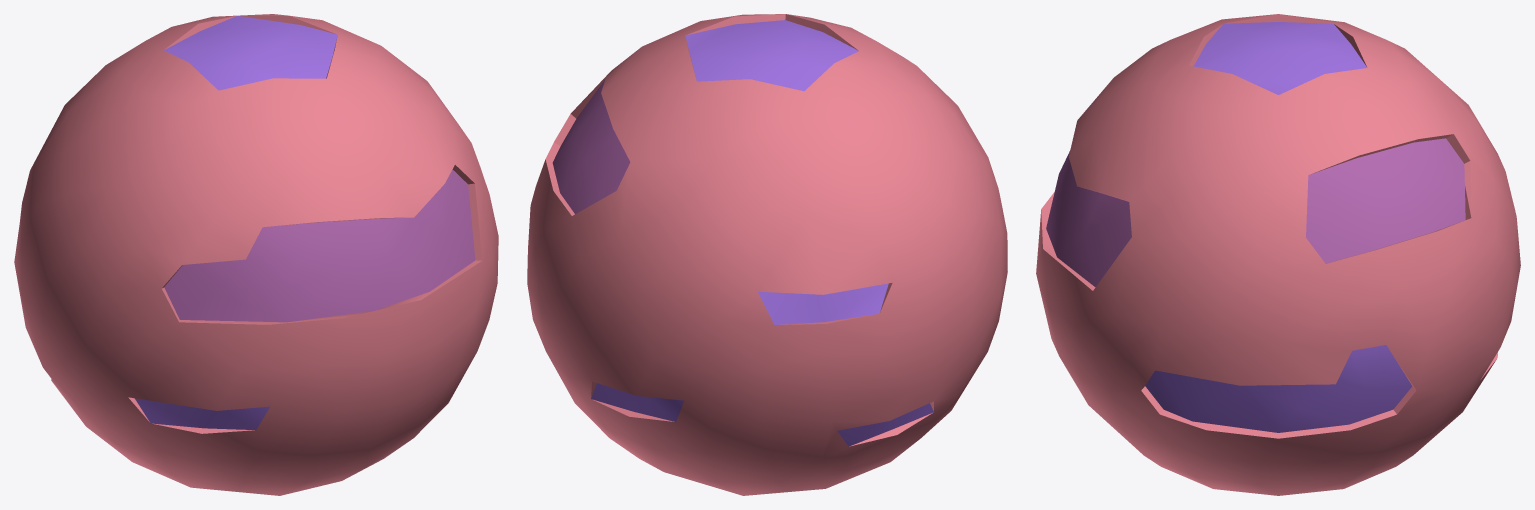
File: Planeta_8.fbx
The picture shows the model from 3 angles, left to right: view 1: azimuth 30°, elevation 25°; view 2: azimuth 150°, elevation 25°; view 3: azimuth 270°, elevation 25°; orthographic projection.
Parts seen in each view (by area): view 1: Toy_Planet_10; view 2: Toy_Planet_10; view 3: Toy_Planet_10.
Boxes of the visible parts, bbox=[...] form: Toy_Planet_10: bbox=[14, 14, 498, 495]; Toy_Planet_10: bbox=[527, 14, 1007, 495]; Toy_Planet_10: bbox=[1036, 14, 1520, 495].
Size of the model in its own units: 200 by 193 by 201.
